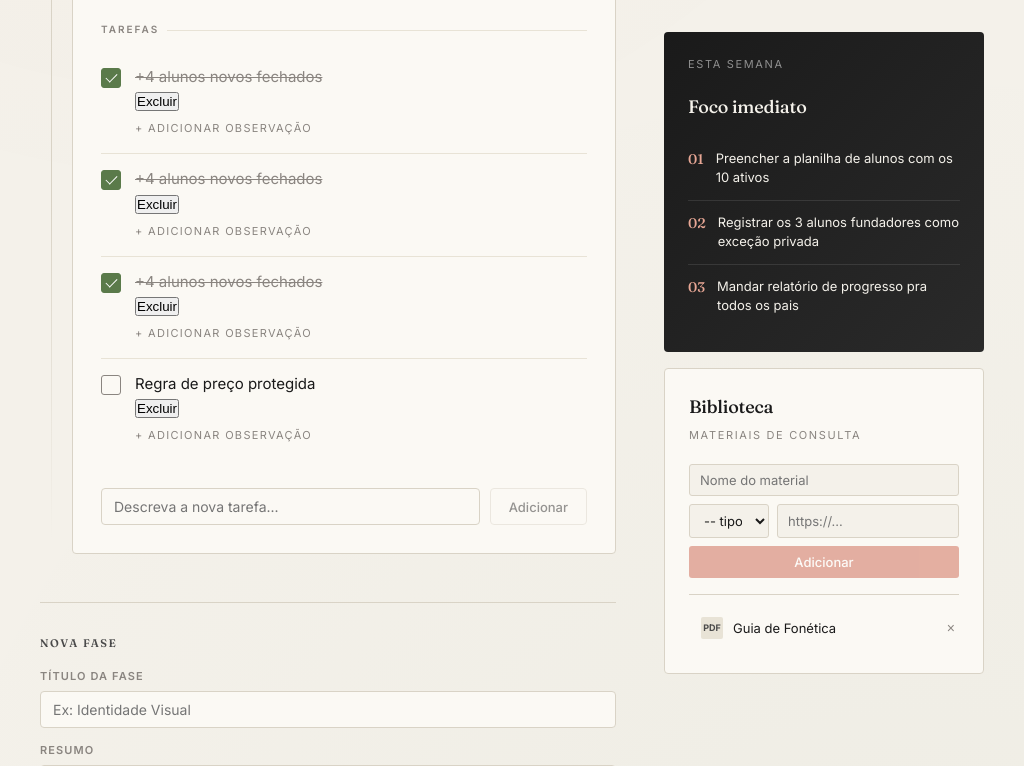
Test: Painel (integration) › when user clicks a pending task (admin) › should show toast when marking as done
The width and height of the screenshot is (1024, 766).
(page scrolled)
Click the checkbox with test id "chk-toggle-tarefa-t1-4" at [111, 385], box [101, 375, 121, 395]
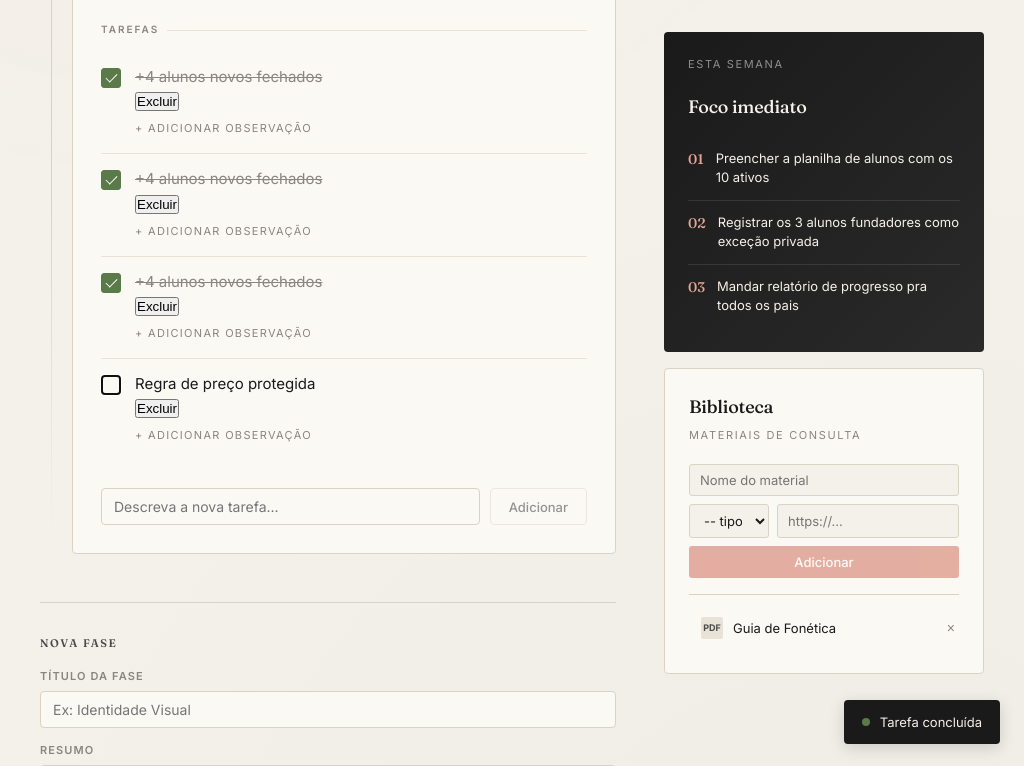
Expected: the message with test id "toast-feedback" reads "Tarefa concluída", [880, 714, 982, 730]
